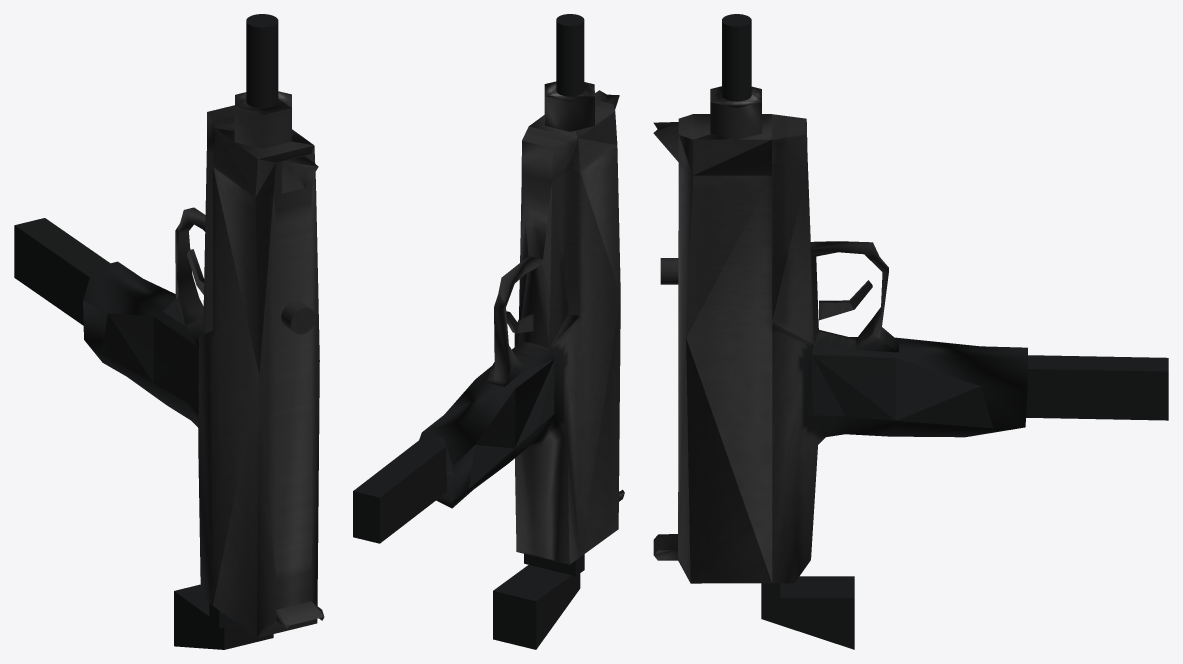
File: MAC10.fbx
3 views of the same model, side by side, from view 1: azimuth 30°, elevation 25°; view 2: azimuth 150°, elevation 25°; view 3: azimuth 270°, elevation 25° (orthographic). The views are drawn at different scales.
Parts seen in each view (by area): view 1: node_7eb8945f_c9b5_4b90_a62e_b771b0daf3d9_mesh0; view 2: node_7eb8945f_c9b5_4b90_a62e_b771b0daf3d9_mesh0; view 3: node_7eb8945f_c9b5_4b90_a62e_b771b0daf3d9_mesh0.
Part boxes in pixels (bbox=[...]): node_7eb8945f_c9b5_4b90_a62e_b771b0daf3d9_mesh0: bbox=[14, 14, 324, 649]; node_7eb8945f_c9b5_4b90_a62e_b771b0daf3d9_mesh0: bbox=[353, 14, 624, 649]; node_7eb8945f_c9b5_4b90_a62e_b771b0daf3d9_mesh0: bbox=[653, 14, 1168, 649].
Bounding box in the file's own units: 0.0199 × 0.2089 × 0.1577.
